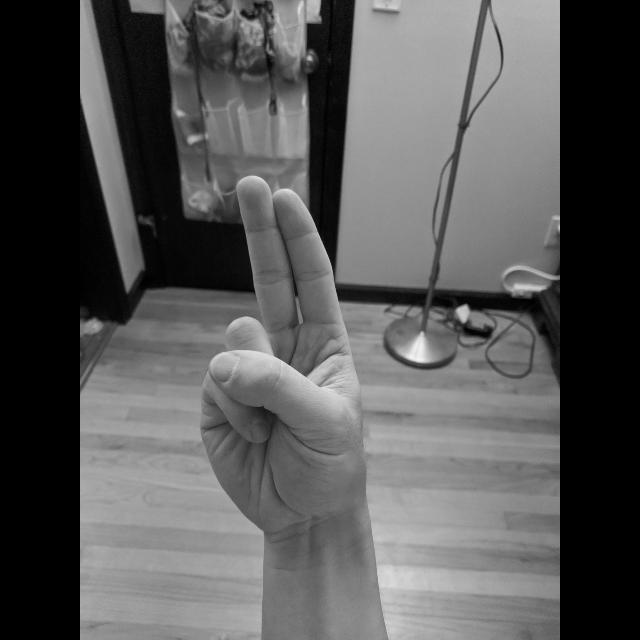U: (192, 170, 376, 540)
